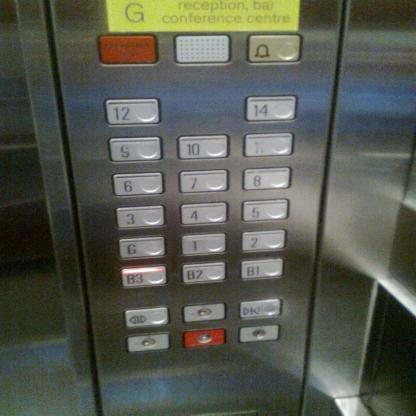1: (178, 232, 228, 256)
10: (175, 133, 230, 160)
11: (242, 131, 294, 158)
12: (104, 98, 161, 126)
14: (244, 93, 297, 122)
2: (239, 229, 286, 253)
3: (114, 204, 165, 229)
4: (178, 201, 228, 226)
5: (240, 198, 289, 222)
6: (110, 171, 166, 196)
7: (177, 168, 229, 194)
8: (240, 165, 292, 190)
9: (106, 135, 164, 163)
B1: (238, 257, 284, 281)
B2: (180, 260, 227, 284)
B3: (118, 264, 168, 288)
G: (116, 234, 167, 260)
alarm: (245, 33, 302, 64)
bt_keyhole: (181, 301, 228, 322), (181, 327, 228, 348), (124, 331, 170, 352), (237, 323, 280, 344)
close: (238, 298, 283, 320)
open: (123, 306, 170, 328)
speaker: (173, 34, 232, 65)
text_blur: (96, 34, 159, 66)
